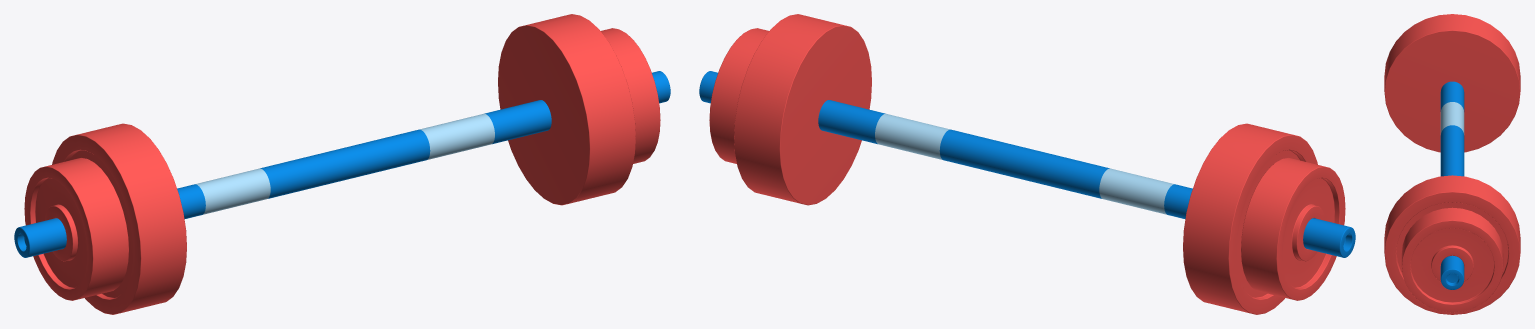
File: City_18_Barbell_1.glb
3 views of the same model, side by side, from view 1: azimuth 30°, elevation 25°; view 2: azimuth 150°, elevation 25°; view 3: azimuth 270°, elevation 25° (orthographic). The views are drawn at different scales.
Parts seen in each view (by area): view 1: City_18_Barbell_1; view 2: City_18_Barbell_1; view 3: City_18_Barbell_1.
Part boxes in pixels (x1,y1,x2,y2): City_18_Barbell_1: (14,14,670,314); City_18_Barbell_1: (699,14,1355,314); City_18_Barbell_1: (1384,14,1520,314).
Size of the model in its own units: 1.56 by 0.3889 by 0.3889.
1 material, 1 textured.
